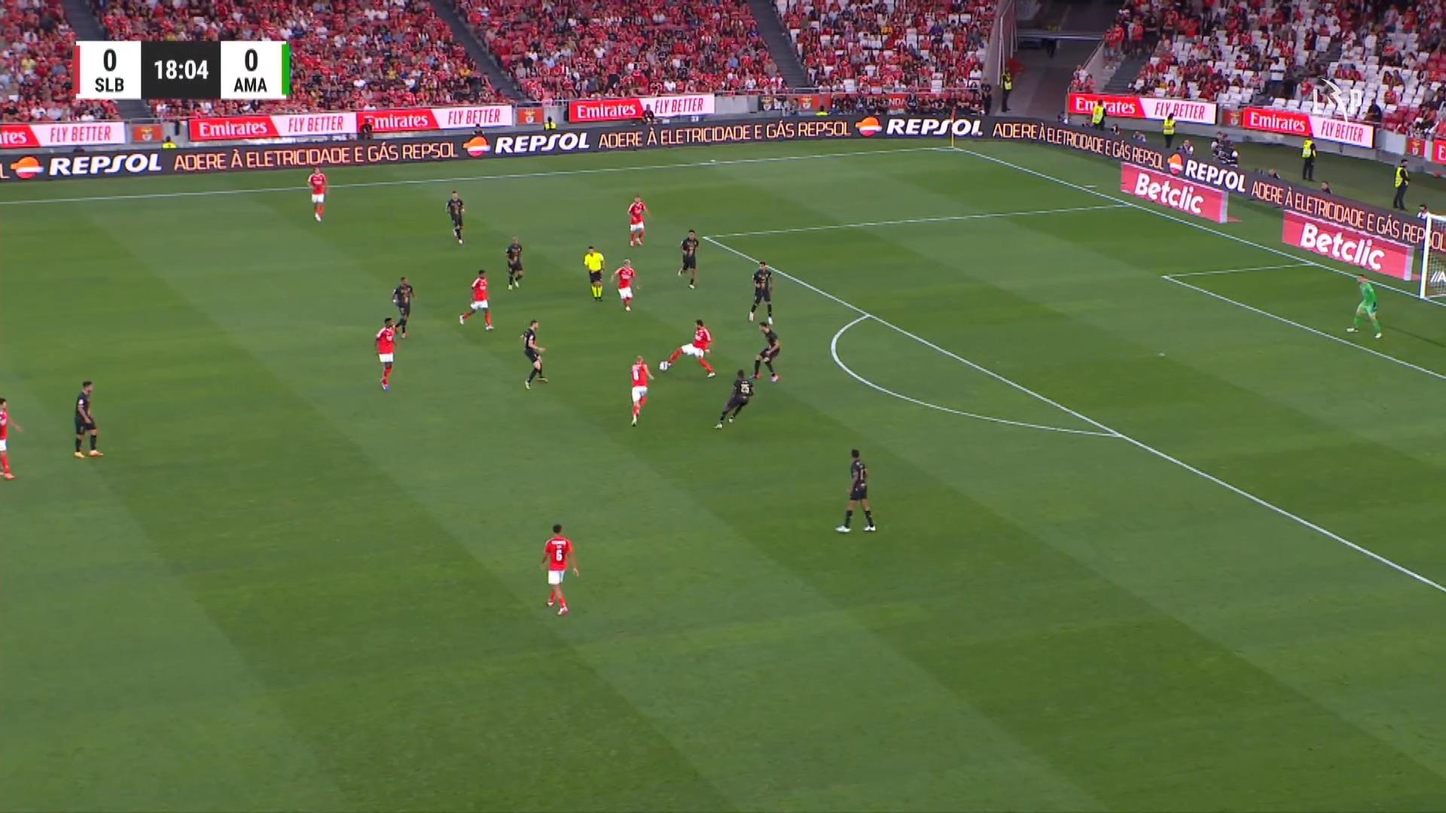ball: (659, 360, 670, 370)
goalkeeper: (1345, 273, 1383, 338)
player: (540, 522, 580, 616), (834, 448, 876, 532), (658, 318, 716, 378), (713, 368, 754, 429), (73, 379, 103, 458), (458, 269, 494, 331), (520, 318, 548, 390), (0, 397, 23, 480), (628, 355, 654, 426), (374, 316, 398, 391), (752, 320, 781, 382), (748, 260, 774, 324), (610, 257, 639, 312), (390, 276, 415, 338), (677, 228, 700, 289), (307, 165, 328, 222), (445, 189, 465, 244), (627, 194, 648, 246), (504, 236, 524, 290)
referee: (583, 245, 605, 301)
